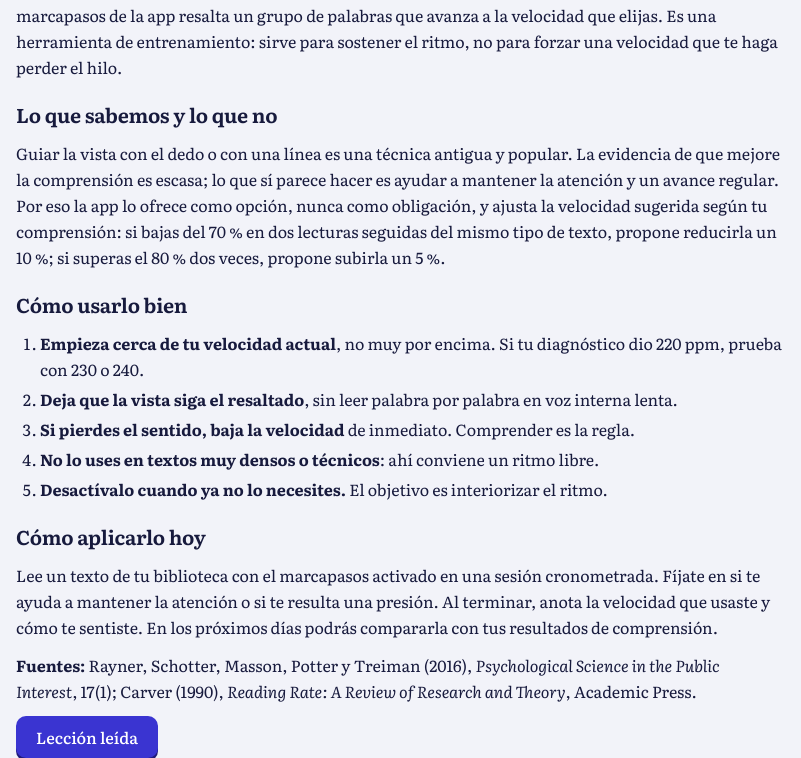
Test case: DayView › lectura propia: «Ya leí» solo completa si hay una sesión de ese día
Later steps or results of the test are not shown.
(page scrolled)
Click the button "Lección leída" at (87, 737), box [16,716,158,757]
(page scrolled)
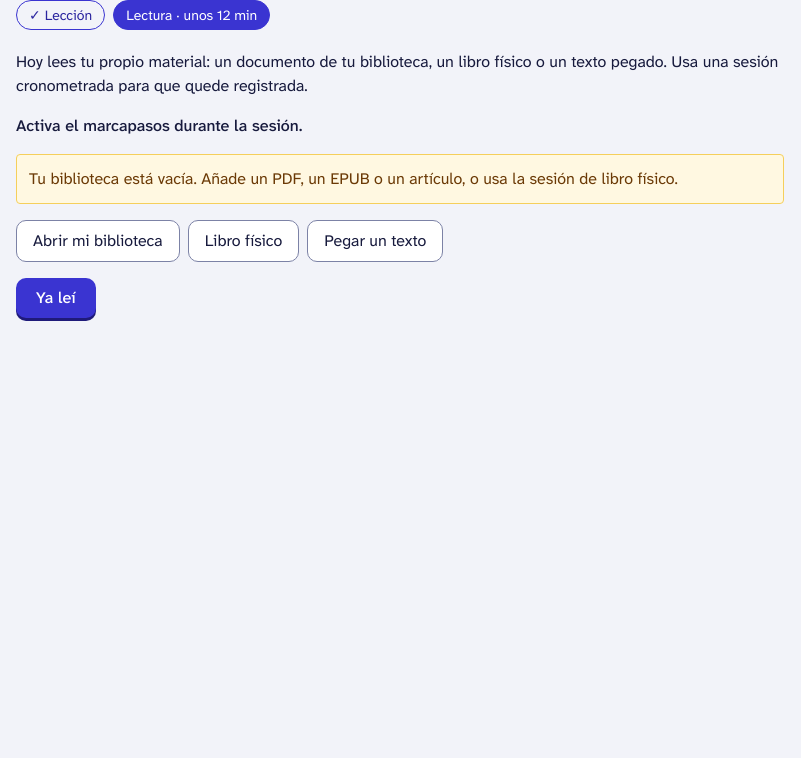
Check: the text "Tu biblioteca está vacía. Añade un PDF, un EPUB o un artículo, o usa la sesión de libro físico." is shown, box [29,168,678,189]
Click the button "Ya leí" at (56, 298), box [16,278,96,318]
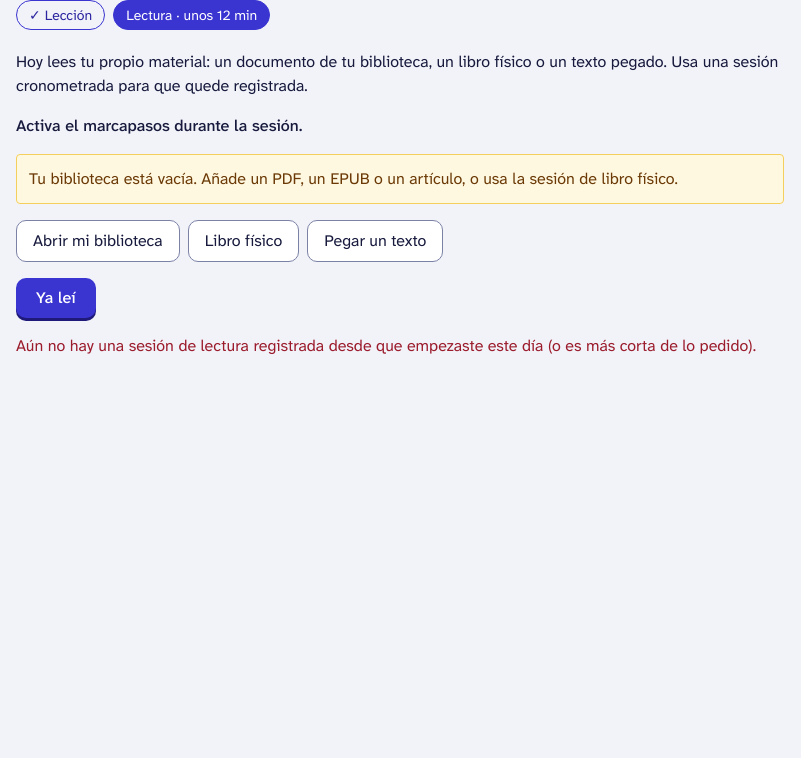
Check: the text "Aún no hay una sesión de lectura registrada desde que empezaste este día (o es más corta de lo pedido)." is shown, box [16,335,756,356]
